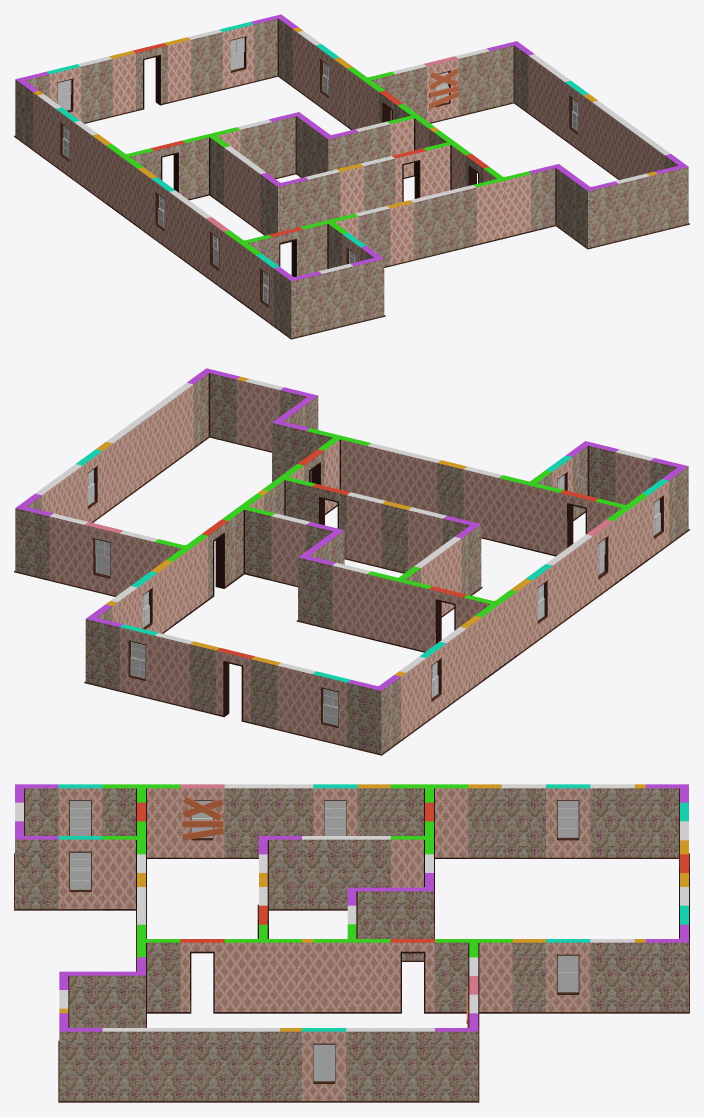
File: Maquete_-_Paredes.fbx
3 views of the same model, one above another, from view 1: azimuth 30°, elevation 25°; view 2: azimuth 150°, elevation 25°; view 3: azimuth 270°, elevation 25° (orthographic). The views are drawn at different scales.
Parts seen in each view (by area): view 1: Cube.400, Cube.429, Cube.402, Cube.338, Cube.348, Cube.401, Cube.421, Cube.340, Cube.376, Cube.394, Cube.323, Cube.423 (+58 smaller); view 2: Cube.423, Cube.338, Cube.362, Cube.312, Cube.404, Cube.381, Cube.340, Cube.421, Cube.400, Cube.376, Cube.323, Cube.394 (+59 smaller); view 3: Cube.312, Cube.315, Cube.381, Cube.340, Cube.421, Cube.394, Cube.404, Cube.376, Cube.428, Cube.347, Cube.357, Cube.360 (+43 smaller).
Boxes of the visible parts, box(x1,y1,x2,y2) form: Cube.400: box(473, 167, 532, 245); Cube.429: box(273, 267, 322, 339); Cube.402: box(569, 177, 619, 249); Cube.338: box(182, 127, 240, 204); Cube.348: box(259, 172, 308, 244); Cube.401: box(528, 164, 576, 235); Cube.421: box(223, 230, 272, 312); Cube.340: box(105, 144, 153, 226); Cube.376: box(251, 14, 298, 86); Cube.394: box(486, 41, 533, 112); Cube.323: box(268, 112, 316, 178); Cube.423: box(300, 213, 358, 274); Cube.423: box(498, 470, 563, 556); Cube.338: box(366, 566, 432, 652); Cube.362: box(346, 675, 401, 755); Cube.312: box(222, 493, 274, 585); Cube.404: box(187, 368, 239, 447); Cube.381: box(154, 534, 209, 625); Cube.340: box(463, 590, 518, 681); Cube.421: box(595, 493, 649, 584); Cube.400: box(306, 428, 370, 514); Cube.376: box(84, 604, 123, 691); Cube.323: box(296, 543, 335, 629); Cube.394: box(14, 493, 52, 580); Cube.312: box(313, 924, 390, 1013); Cube.315: box(224, 924, 301, 1013); Cube.381: box(435, 939, 512, 1026); Cube.340: box(390, 784, 468, 858); Cube.421: box(102, 784, 180, 858); Cube.394: box(435, 1013, 479, 1102); Cube.404: box(58, 1013, 102, 1102); Cube.376: box(645, 924, 689, 1013); Cube.428: box(14, 821, 58, 910); Cube.347: box(302, 836, 346, 910); Cube.357: box(501, 784, 545, 858); Cube.360: box(590, 784, 634, 858).
Bounding box in the file's own units: 5300 × 700 × 6100.
